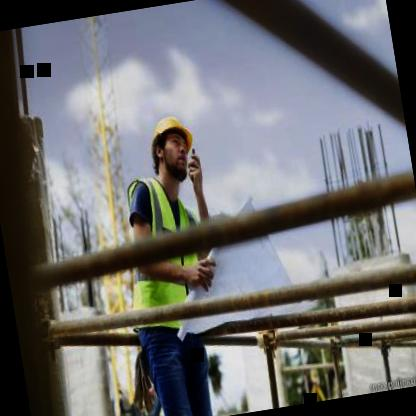helmet: (143, 103, 201, 190)
